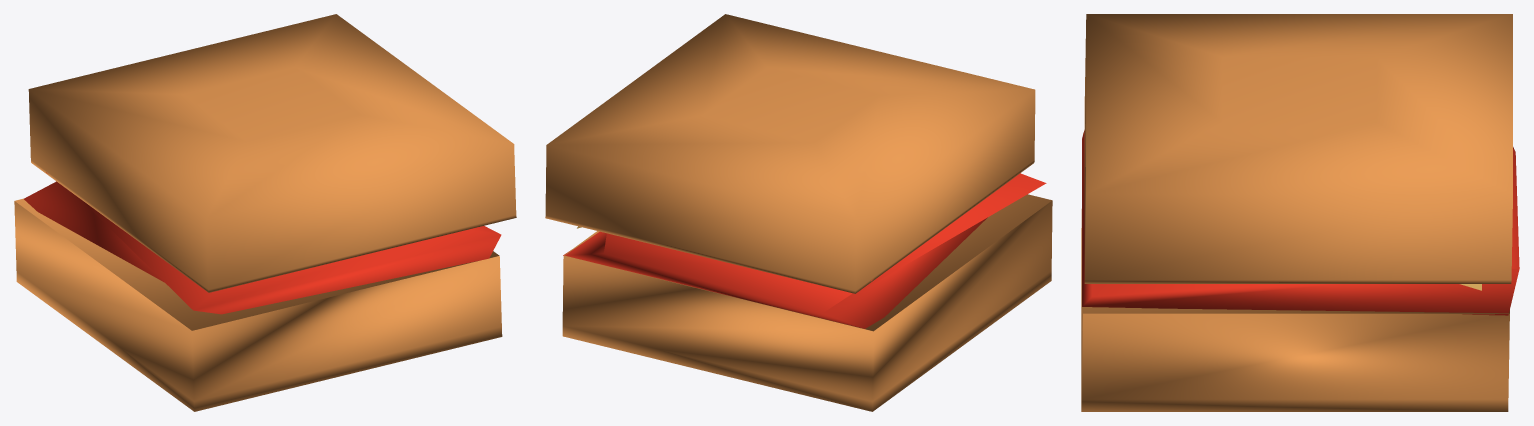
Rendered from hamburger.glb.
The picture shows the model from 3 angles, left to right: view 1: azimuth 30°, elevation 25°; view 2: azimuth 150°, elevation 25°; view 3: azimuth 270°, elevation 25°; orthographic projection. The views are drawn at different scales.
Visible parts, largest first — view 1: Cube.002, Cube, Cube.001; view 2: Cube.002, Cube, Cube.001; view 3: Cube.002, Cube, Cube.001.
Part boxes in pixels (box(x1,y1,x2,y2)): Cube.002: box(28, 14, 516, 292); Cube: box(14, 198, 502, 411); Cube.001: box(24, 172, 501, 314); Cube.002: box(545, 14, 1035, 293); Cube: box(562, 194, 1052, 411); Cube.001: box(563, 173, 1046, 328); Cube.002: box(1084, 14, 1512, 283); Cube: box(1081, 133, 1509, 411); Cube.001: box(1082, 130, 1519, 315).
Bounding box in the file's own units: 10.14 × 5.96 × 9.85.
